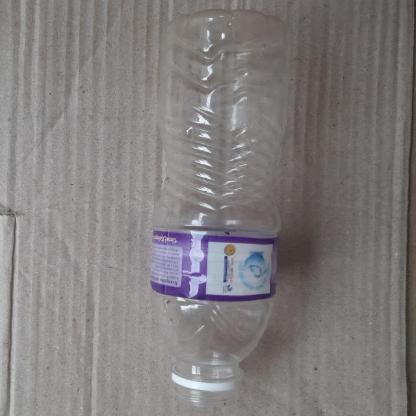Plastic Bottle: (148, 7, 286, 414)
